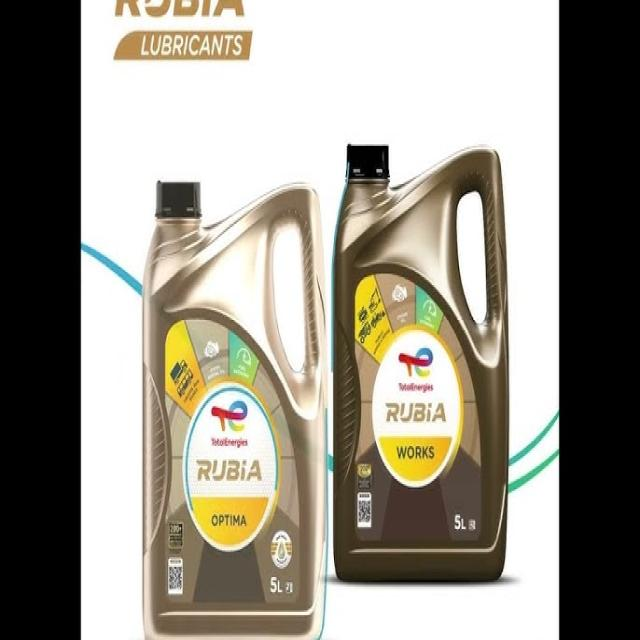motor_oil: (137, 176, 322, 640), (332, 136, 515, 588)
